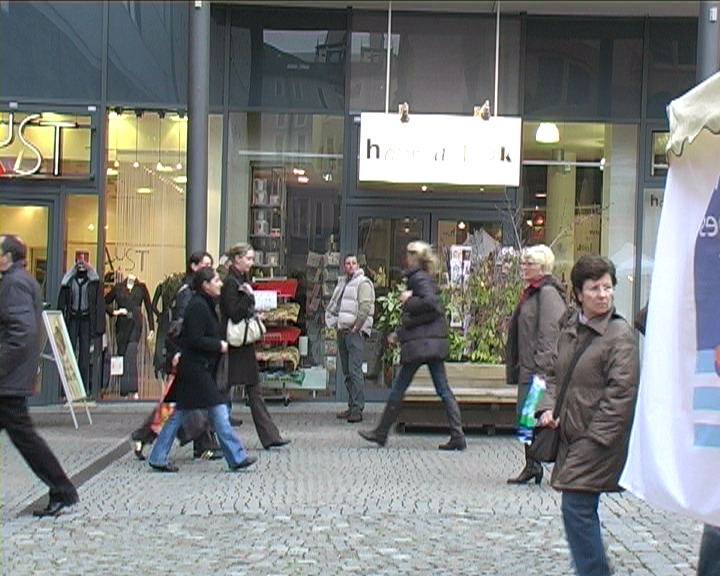deflection: (549, 254, 650, 393), (333, 254, 374, 322)
